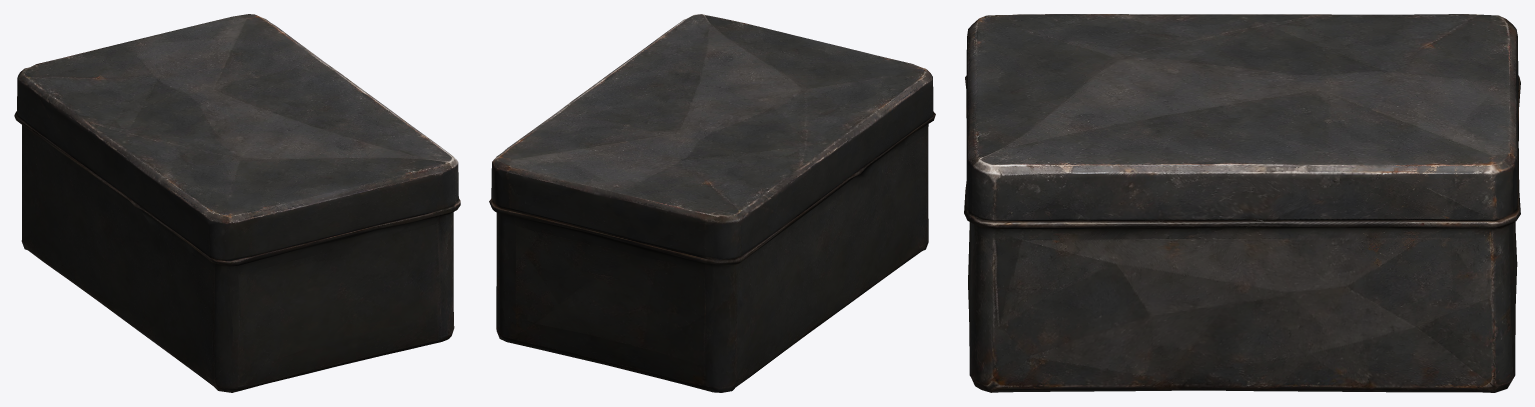
The model's file is metal+storage+box+3d+model.glb.
The picture shows the model from 3 angles, left to right: view 1: azimuth 30°, elevation 25°; view 2: azimuth 150°, elevation 25°; view 3: azimuth 270°, elevation 25°; orthographic projection. The views are drawn at different scales.
Visible parts, largest first — view 1: tripo_node_bb3d1cab-5698-4d98-a55a-7b3fa8037b0d; view 2: tripo_node_bb3d1cab-5698-4d98-a55a-7b3fa8037b0d; view 3: tripo_node_bb3d1cab-5698-4d98-a55a-7b3fa8037b0d.
Boxes of the visible parts, box(x1,y1,x2,y2) form: tripo_node_bb3d1cab-5698-4d98-a55a-7b3fa8037b0d: box(14, 14, 460, 392); tripo_node_bb3d1cab-5698-4d98-a55a-7b3fa8037b0d: box(489, 14, 935, 392); tripo_node_bb3d1cab-5698-4d98-a55a-7b3fa8037b0d: box(964, 14, 1520, 392).
Size of the model in its own units: 0.6772 by 0.4668 by 1.
Materials: 1 (1 with a texture image).
